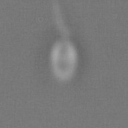normal: (48, 1, 71, 39)
